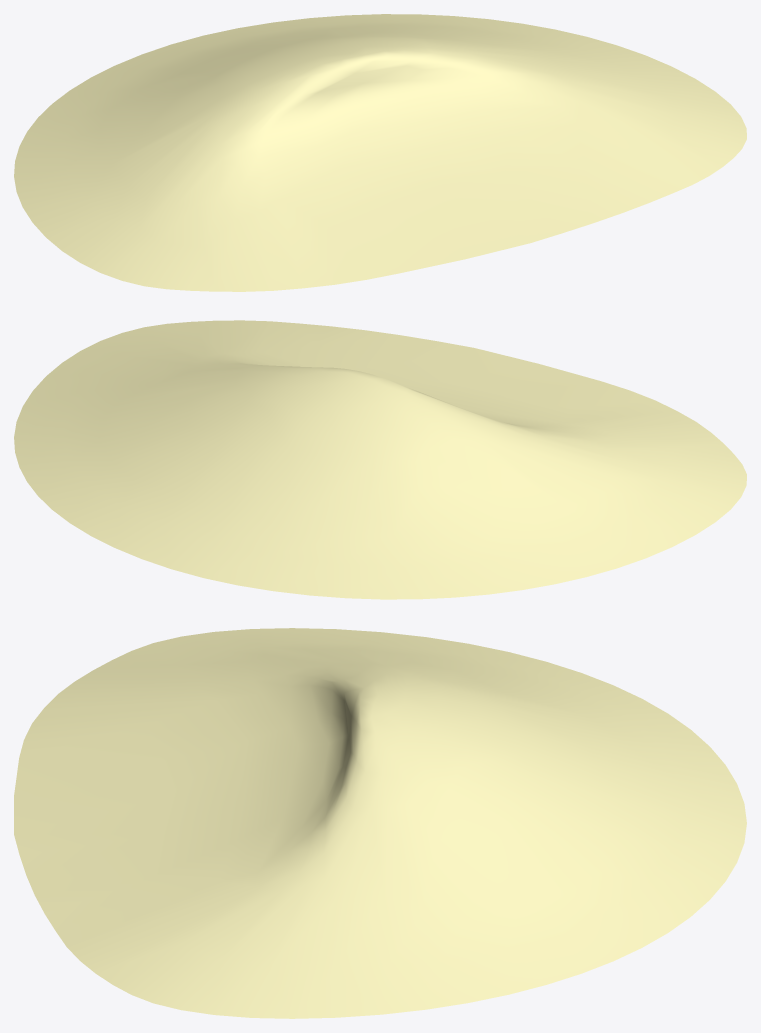
The model's file is Sand_001.glb.
3 renders of one model, top to bottom at view 1: azimuth 30°, elevation 25°; view 2: azimuth 150°, elevation 25°; view 3: azimuth 270°, elevation 25°, orthographic. The views are drawn at different scales.
Visible parts, largest first — view 1: Sand_001; view 2: Sand_001; view 3: Sand_001.
Part boxes in pixels (<box>): Sand_001: <box>14,14,746,291</box>; Sand_001: <box>14,320,746,599</box>; Sand_001: <box>14,628,746,1018</box>.
Bounding box in the file's own units: 4.66 × 0.6209 × 3.69.
Materials: 1 (1 with a texture image).
